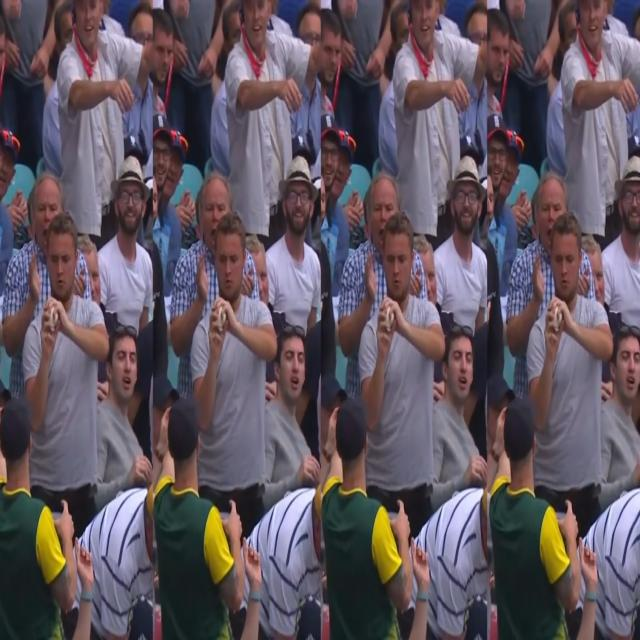ball: (546, 301, 567, 335), (379, 308, 399, 338), (215, 306, 232, 335), (47, 306, 65, 329)
